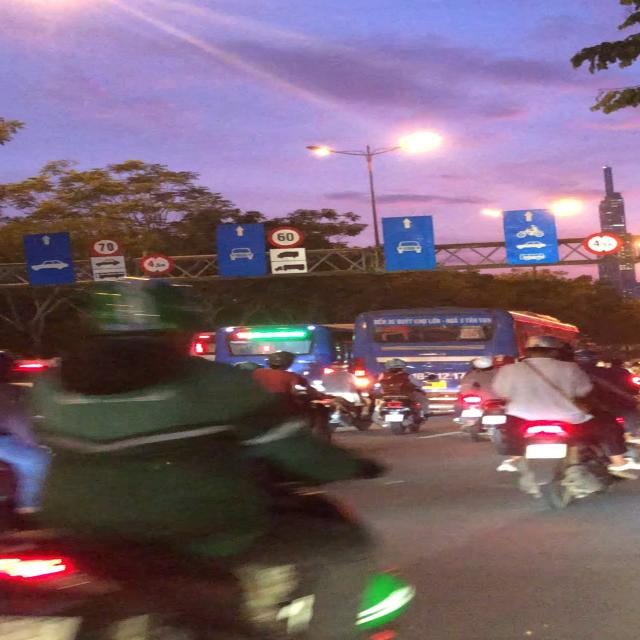Bien bao han che chieu cao: (581, 229, 625, 255), (137, 252, 180, 277)
Bien bao toc do toi da cho phep: (264, 224, 307, 249), (82, 236, 124, 258)
